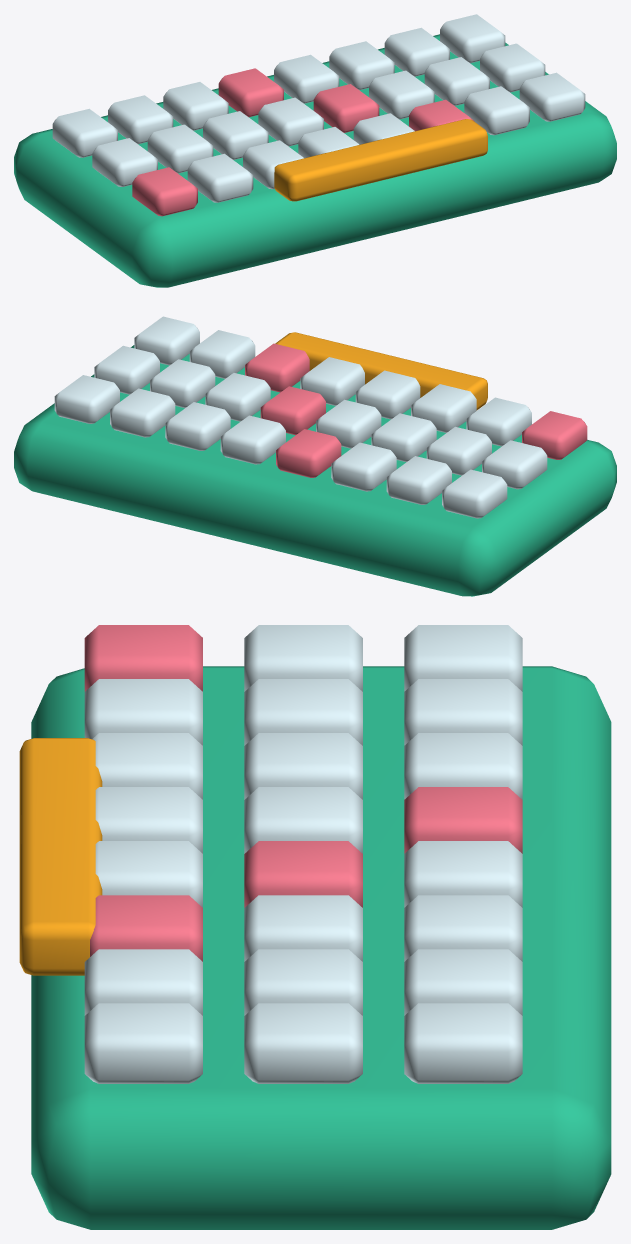
Rendered from keyboard.fbx.
The picture shows the model from 3 angles, top to bottom: view 1: azimuth 30°, elevation 25°; view 2: azimuth 150°, elevation 25°; view 3: azimuth 270°, elevation 25°; orthographic projection. The views are drawn at different scales.
Visible parts, largest first — view 1: keyboard; view 2: keyboard; view 3: keyboard.
Part boxes in pixels (<box>): keyboard: <box>14,14,616,287</box>; keyboard: <box>14,316,616,596</box>; keyboard: <box>19,625,611,1229</box>.
Bounding box in the file's own units: 100 × 18.62 × 53.19.
Materials: 1 (1 with a texture image).
